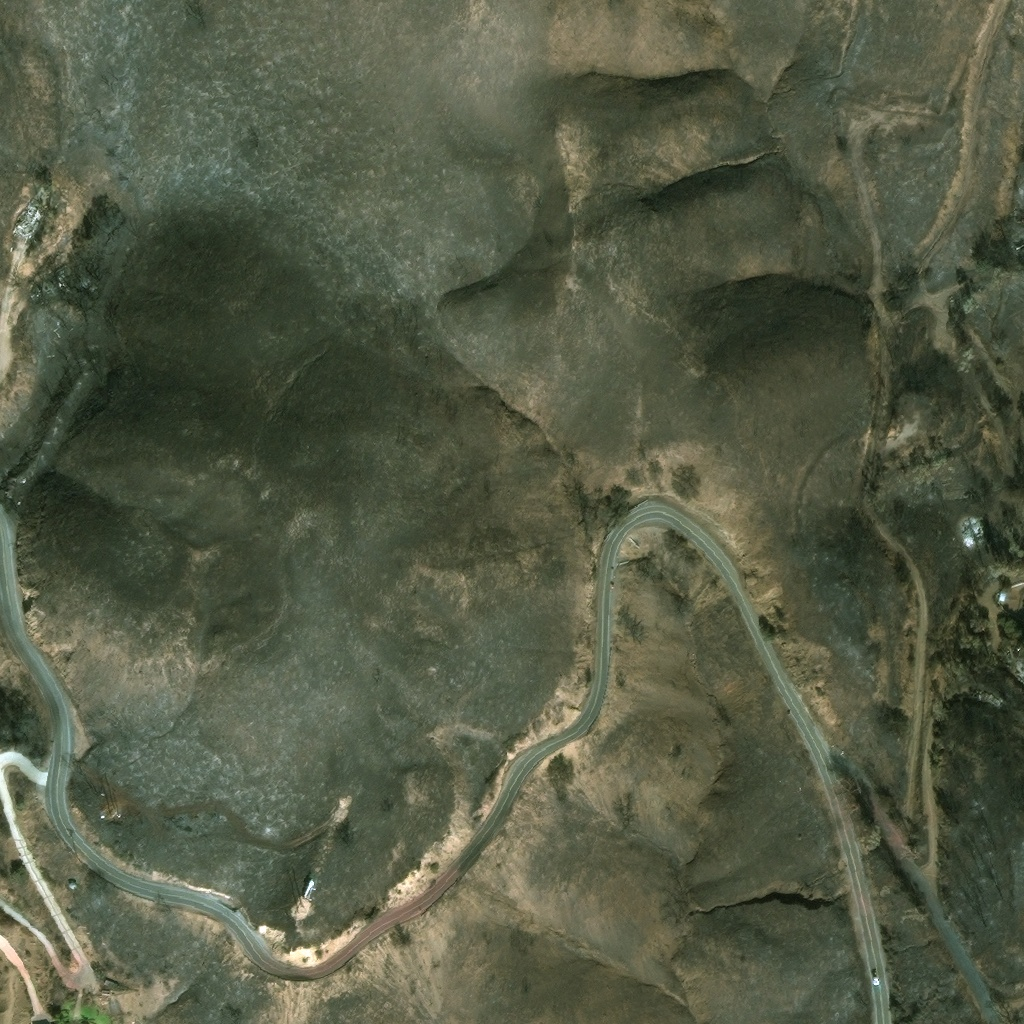3 destroyed: (11, 200, 43, 235), (961, 515, 978, 543), (985, 688, 1003, 704), (104, 977, 118, 988), (66, 878, 77, 887), (990, 632, 997, 645), (998, 589, 1005, 598), (1009, 640, 1016, 647)
